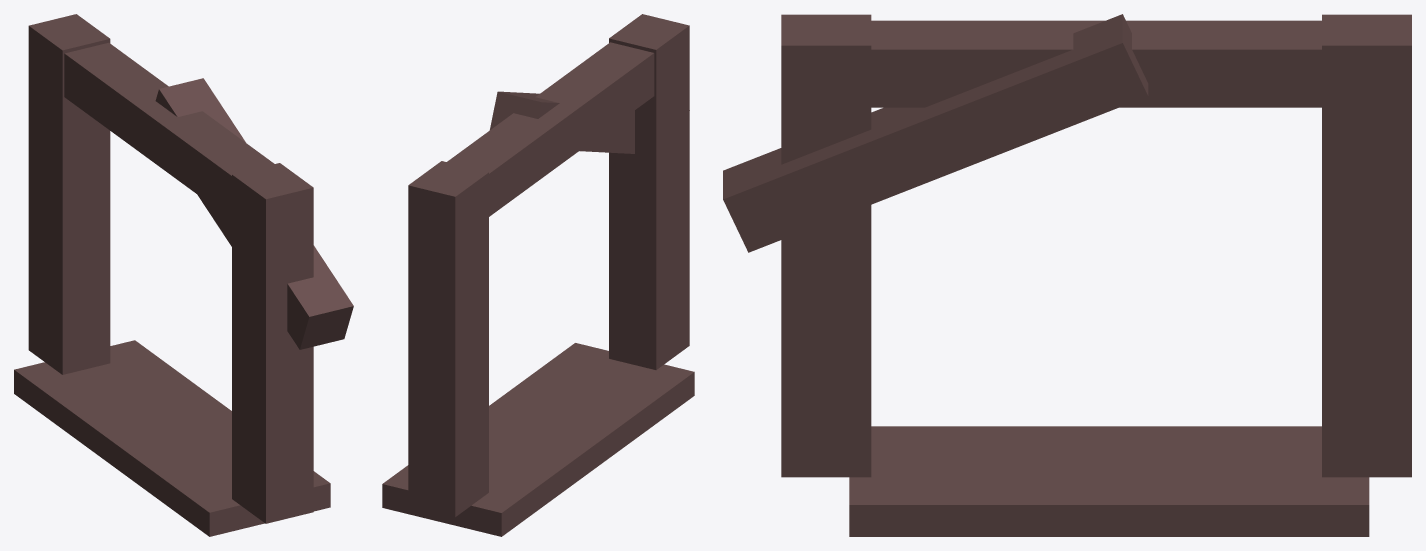
File: windowframe_R.fbx
3 views of the same model, side by side, from view 1: azimuth 30°, elevation 25°; view 2: azimuth 150°, elevation 25°; view 3: azimuth 270°, elevation 25° (orthographic). The views are drawn at different scales.
Parts seen in each view (by area): view 1: Cube.023; view 2: Cube.023; view 3: Cube.023.
Part boxes in pixels (box(x1,y1,x2,y2)): Cube.023: box(14, 14, 353, 536); Cube.023: box(382, 14, 694, 536); Cube.023: box(723, 14, 1411, 536).
Bounding box in the file's own units: 77.97 × 222 × 289.
